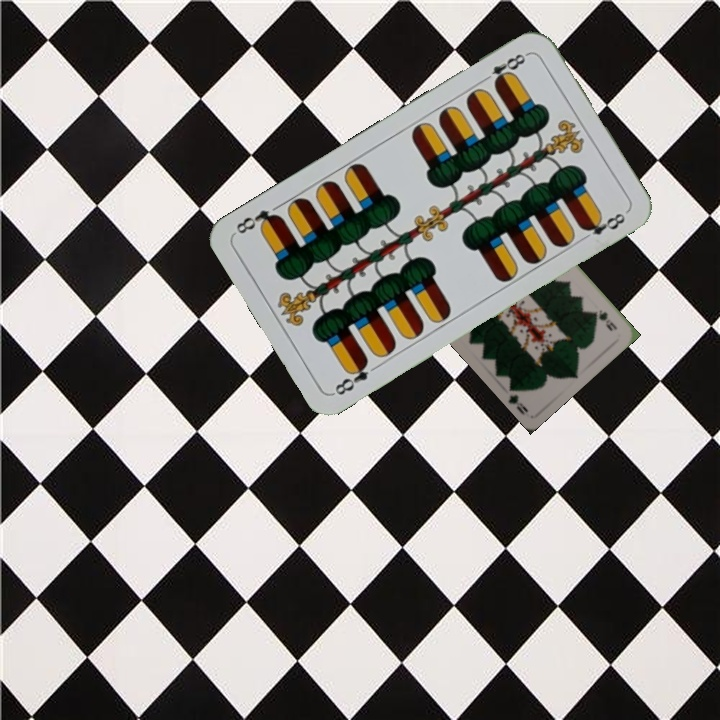E8: (478, 49, 531, 89), (330, 355, 372, 398)
G9: (589, 306, 620, 334)
